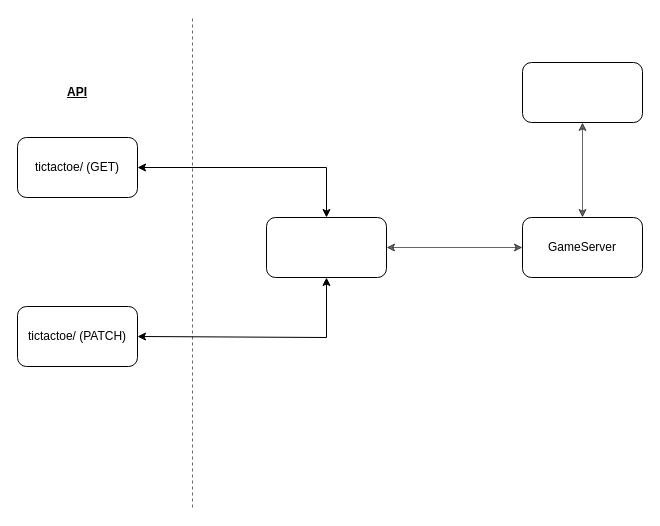
Image size: 660x526. Some labels were removed from this diagram. Each missing label, with the centre of its shape:
GameEngine: the point at 582,92
TicTacToeService: the point at 326,247
